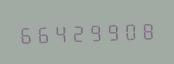eight: (136, 18, 152, 41)
four: (51, 21, 67, 44)
nine: (85, 20, 101, 43), (102, 19, 118, 42)
six: (34, 21, 50, 45), (17, 22, 33, 45)
two: (68, 20, 84, 44)
zero: (119, 18, 135, 42)
